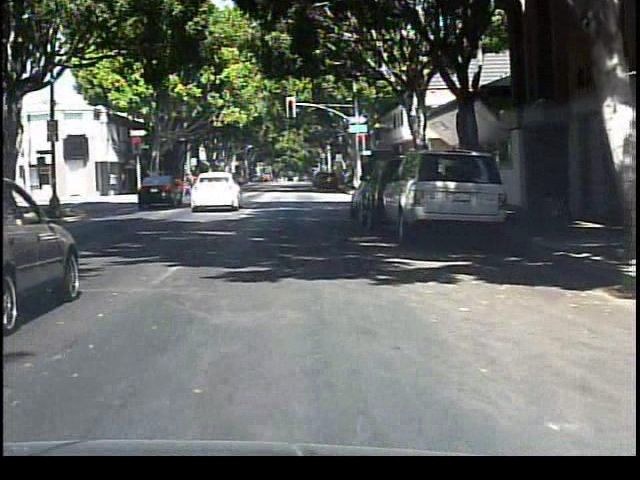person: (180, 165, 205, 205)
